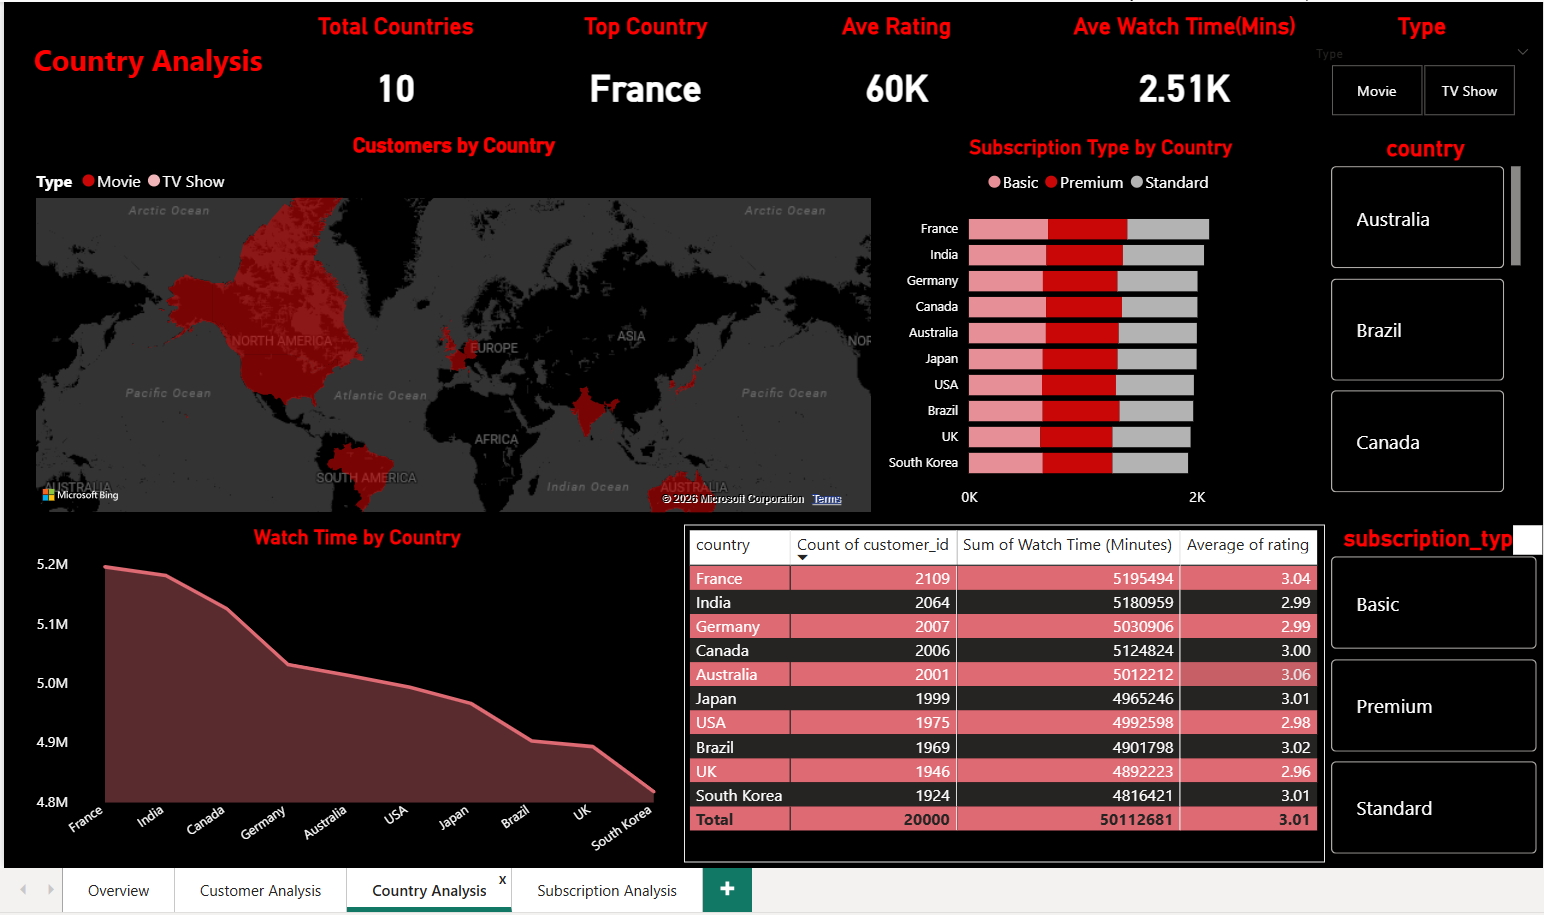

Layout of this report page (visuals, bound fields, positions):
{"tool":"powerbi","page":{"name":"Country Analysis","canvas":[1280,720],"ordinal":2},"visuals":[{"type":"card","title":"Total Countries","fields":{"Values":["Count(Netflix Ratings.country)"]},"box":[245.1,9.8,161,100],"z":0},{"type":"card","title":"Top Country","fields":{"Values":["Netflix Ratings.Top Country"]},"box":[406.1,9.8,254.9,100],"z":1000},{"type":"card","title":"Ave Watch Time(Mins)","fields":{"Values":["Avg(Netflix Ratings.Watch Time (Minutes))"]},"box":[863.4,9.8,235.4,100],"z":2000},{"type":"card","title":"Ave Rating","fields":{"Values":["Sum(Netflix Ratings.rating)"]},"box":[646.3,9.8,191.5,100],"z":3000},{"type":"filledMap","title":"Customers by Country","fields":{"Category":["Netflix Ratings.country"],"Series":["Netflix.Type"]},"box":[21.6,109.5,704.1,320.3],"z":4000},{"type":"stackedAreaChart","title":"Watch Time by Country","fields":{"Category":["Netflix Ratings.country"],"Y":["Sum(Netflix Ratings.Watch Time (Minutes))"]},"box":[22,434.1,543.9,285.4],"z":5000},{"type":"barChart","title":"Subscription Type by Country","fields":{"Category":["Netflix Ratings.country"],"Series":["Netflix Ratings.subscription_type"],"Y":["CountNonNull(Netflix Ratings.customer_id)"]},"box":[725.6,109.8,373.2,319.5],"z":6000},{"type":"pivotTable","fields":{"Rows":["Netflix Ratings.country"],"Values":["CountNonNull(Netflix Ratings.customer_id)","Sum(Netflix Ratings.Watch Time (Minutes))","Avg(Netflix Ratings.rating)"]},"box":[565.9,434.1,532.9,280.5],"z":7000},{"type":"textbox","box":[10.8,9.5,218.9,78.4],"z":8000},{"type":"advancedSlicerVisual","fields":{"Values":["Netflix Ratings.country"]},"box":[1098.8,109.8,167.1,304.9],"z":9000},{"type":"slicer","title":"Type","fields":{"Values":["Netflix.Type"]},"box":[1078,9.8,202.4,91.5],"z":10000},{"type":"advancedSlicerVisual","fields":{"Values":["Netflix Ratings.subscription_type"]},"box":[1098.8,434.1,181.7,279.3],"z":11000}]}

Visuals, with their boxes on the page's 1280x720 design canvas (x1, y1, x2, y2). These are canvas units, not pixel positions in the 1544x915 screenshot, which may show the page scaled, cropped or inside an application window:
"Total Countries" card: (left=245, top=10, right=406, bottom=110)
"Top Country" card: (left=406, top=10, right=661, bottom=110)
"Ave Watch Time(Mins)" card: (left=863, top=10, right=1099, bottom=110)
"Ave Rating" card: (left=646, top=10, right=838, bottom=110)
"Customers by Country" filledMap: (left=22, top=110, right=726, bottom=430)
"Watch Time by Country" stackedAreaChart: (left=22, top=434, right=566, bottom=720)
"Subscription Type by Country" barChart: (left=726, top=110, right=1099, bottom=429)
pivotTable - Netflix Ratings.country x CountNonNull(Netflix Ratings.customer_id): (left=566, top=434, right=1099, bottom=715)
textbox: (left=11, top=10, right=230, bottom=88)
advancedSlicerVisual - Netflix Ratings.country: (left=1099, top=110, right=1266, bottom=415)
"Type" slicer: (left=1078, top=10, right=1280, bottom=101)
advancedSlicerVisual - Netflix Ratings.subscription_type: (left=1099, top=434, right=1280, bottom=713)
